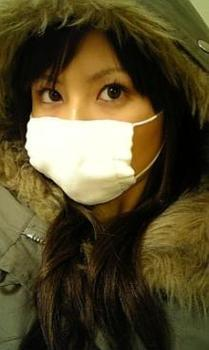face_mask: (30, 18, 141, 204)
